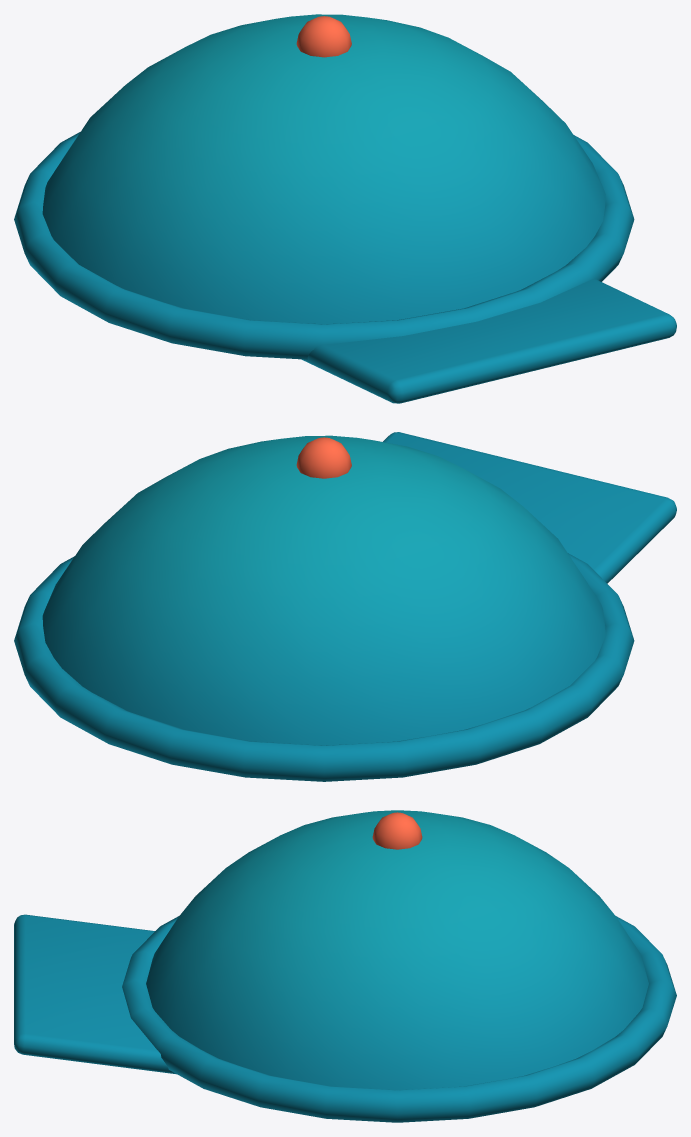
File: acc_cap.glb
The picture shows the model from 3 angles, top to bottom: view 1: azimuth 30°, elevation 25°; view 2: azimuth 150°, elevation 25°; view 3: azimuth 270°, elevation 25°; orthographic projection. The views are drawn at different scales.
Parts seen in each view (by area): view 1: Accessory; view 2: Accessory; view 3: Accessory.
Part boxes in pixels (x1,y1,x2,y2): Accessory: (14,14,676,403); Accessory: (14,432,676,781); Accessory: (14,810,676,1122).
Bounding box in the file's own units: 2.24 × 0.8933 × 2.66.
